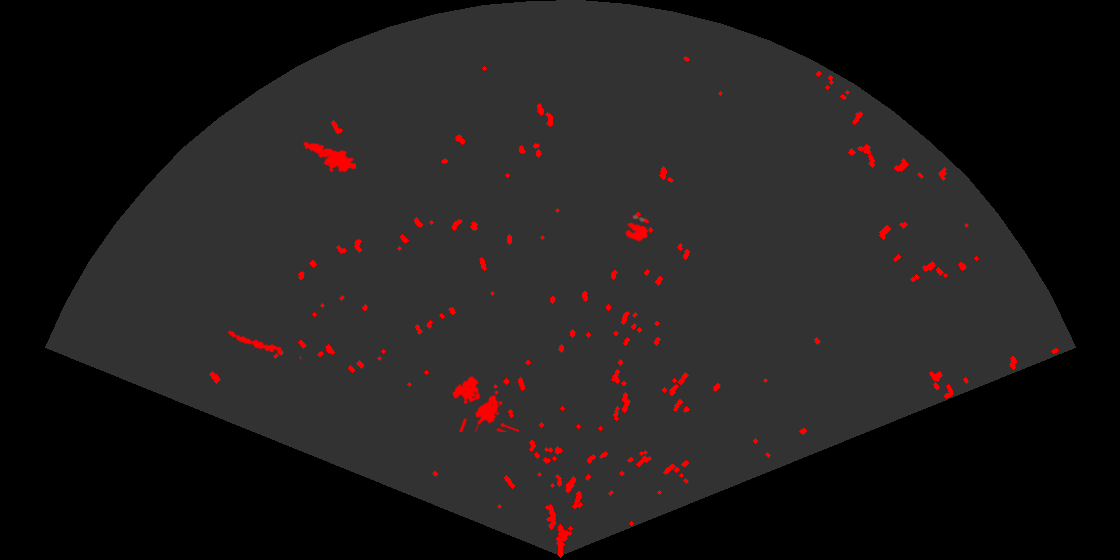ball: (623, 213, 651, 243)
cage: (450, 375, 519, 432)
chain: (226, 329, 304, 361)
frogman: (301, 140, 356, 174)
